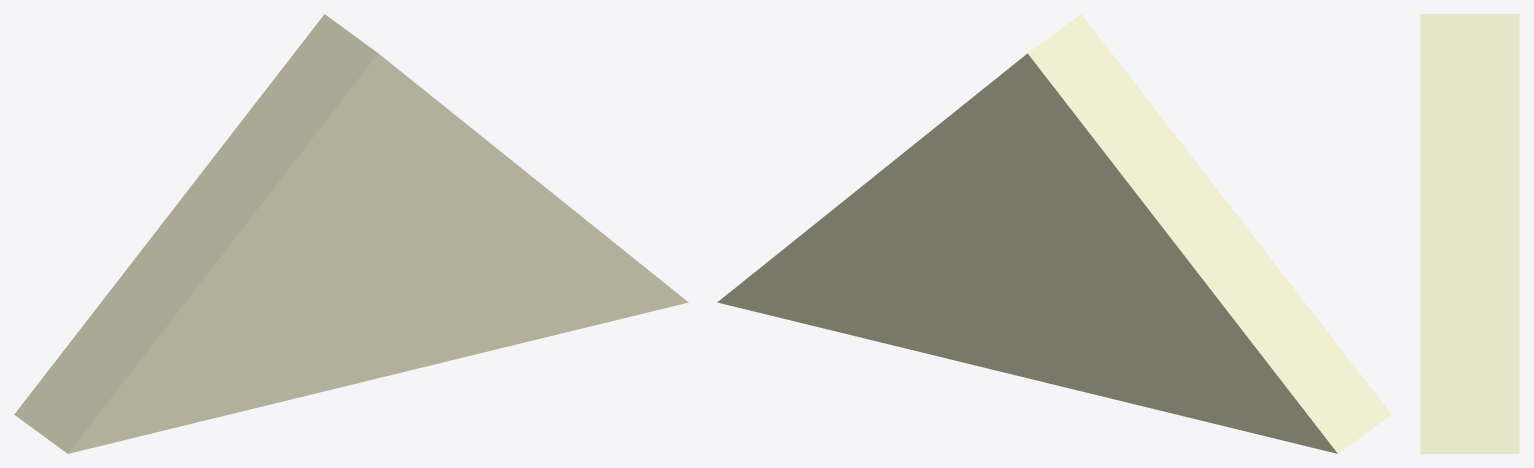
The model's file is Wall_Roof_45_Center.glb.
The picture shows the model from 3 angles, left to right: view 1: azimuth 30°, elevation 25°; view 2: azimuth 150°, elevation 25°; view 3: azimuth 270°, elevation 25°; orthographic projection. The views are drawn at different scales.
Parts seen in each view (by area): view 1: Wall Roof 45 Center; view 2: Wall Roof 45 Center; view 3: Wall Roof 45 Center.
Boxes of the visible parts, x1,y1,x2,y2 form: Wall Roof 45 Center: (14,14,688,453); Wall Roof 45 Center: (717,14,1391,453); Wall Roof 45 Center: (1420,14,1519,453).
Size of the model in its own units: 2 by 1 by 0.3.
